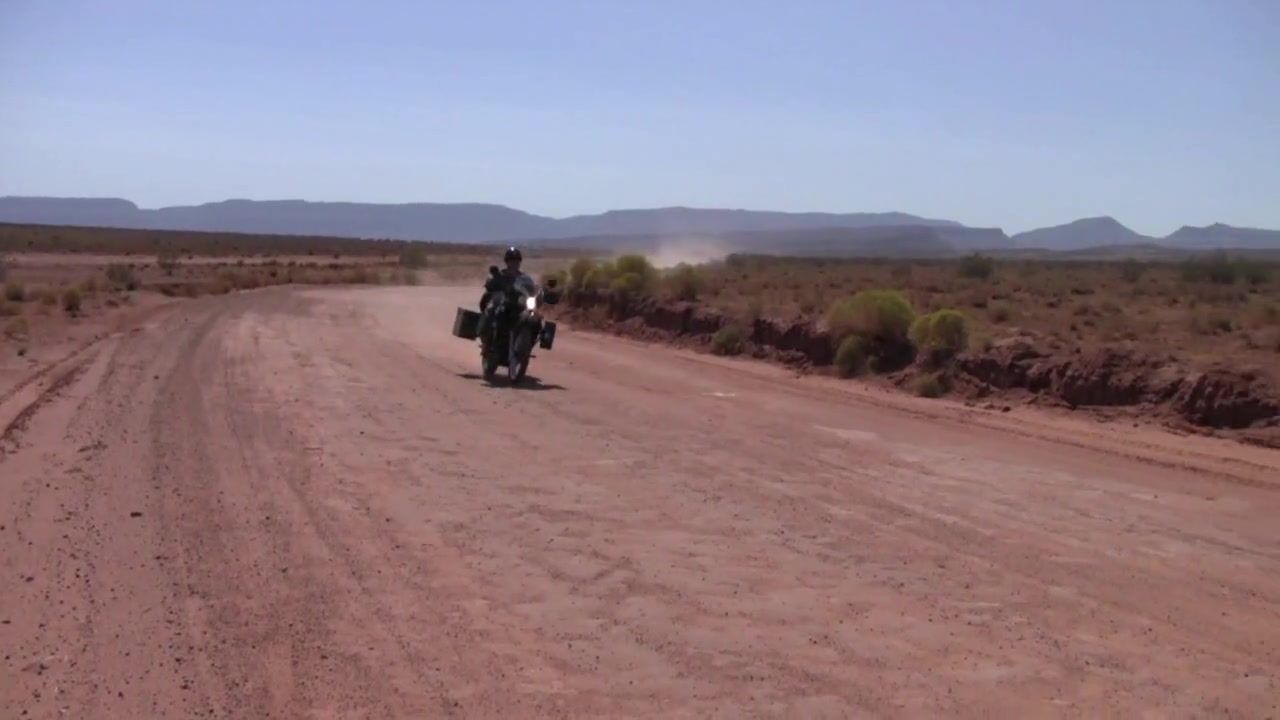motorbike: (469, 272, 562, 391)
